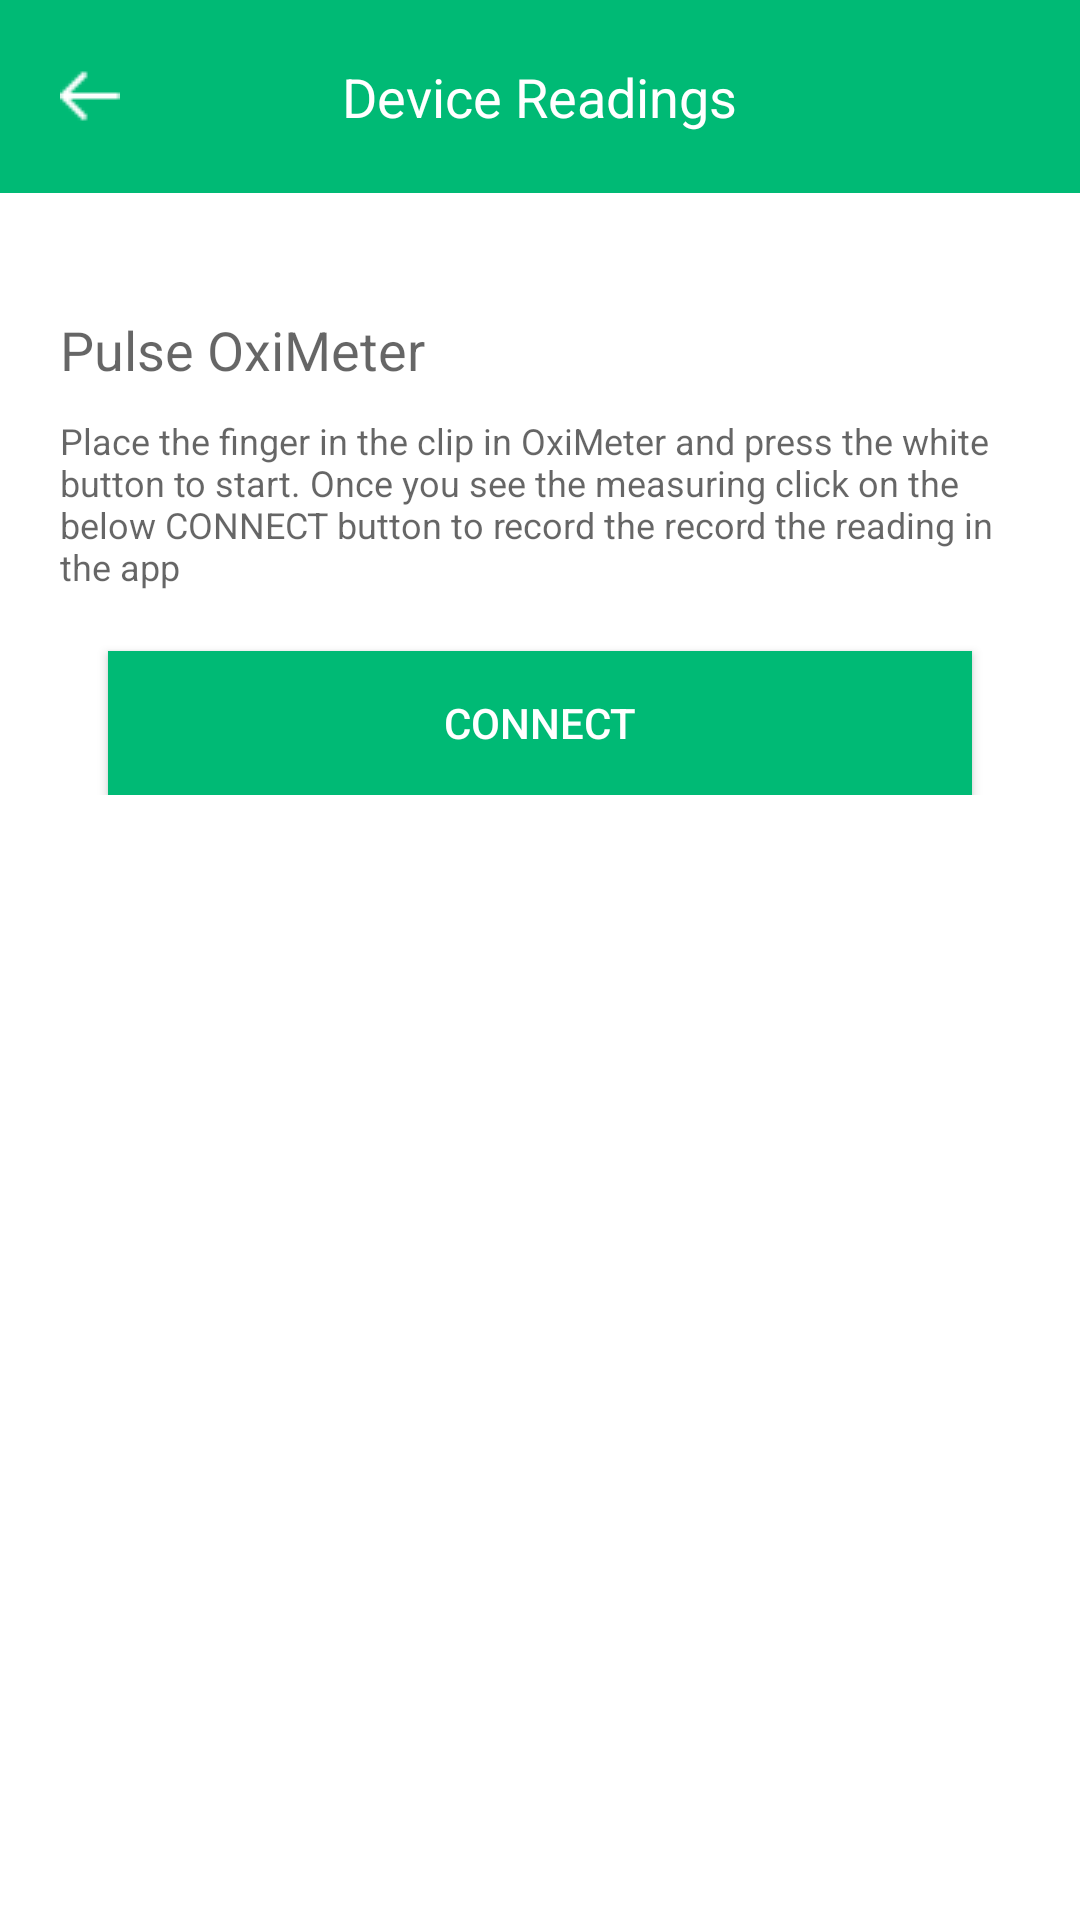

Point at icon controls on the screen. Image size 1080px×1920px, points as [x,y].
back: [90,96]
